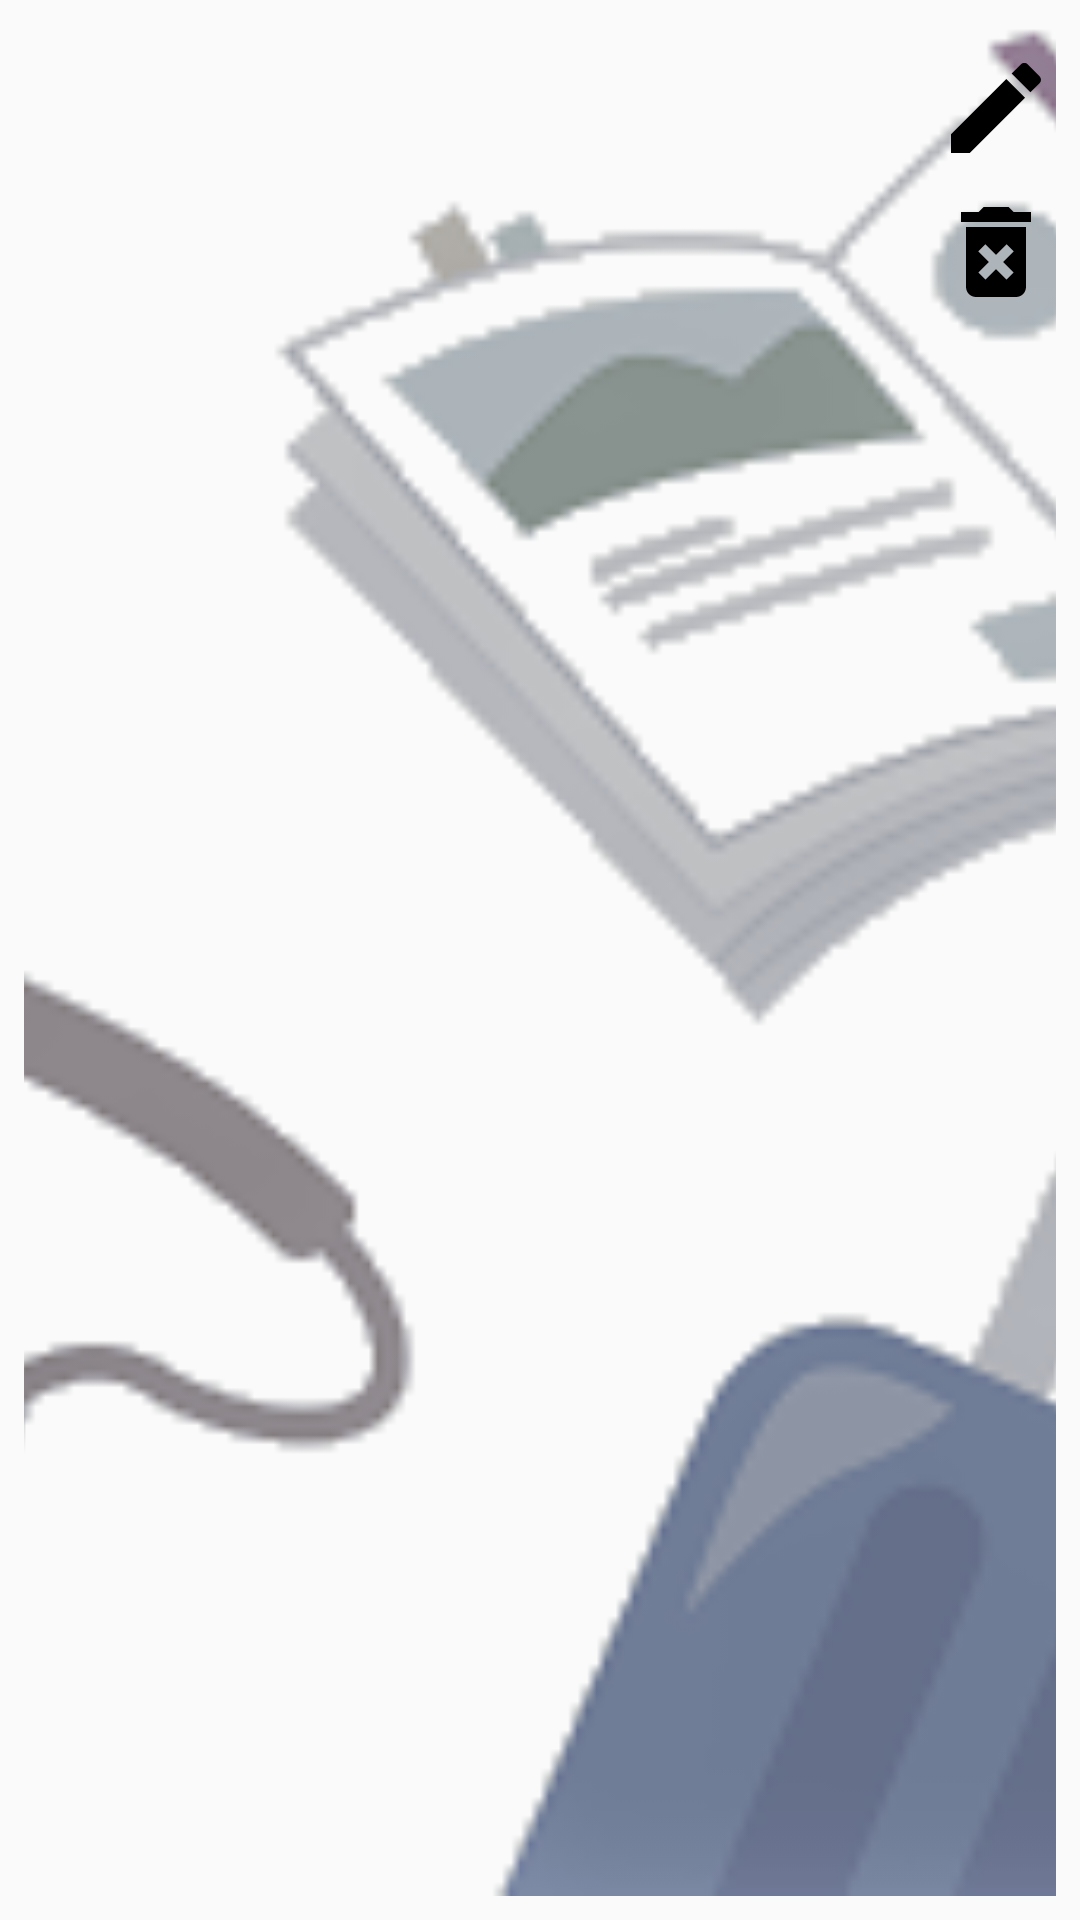

Named icons in this screenshot (1080 × 1920) and their bounding boxes, (x1, y1, x2, y2):
Delete: (936, 203, 1056, 312)
Edit: (936, 48, 1056, 160)
